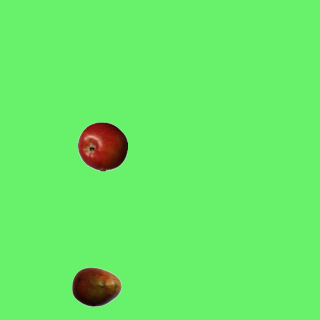Apple Braeburn: (77, 121, 127, 171)
Mango Red: (71, 261, 121, 311)
